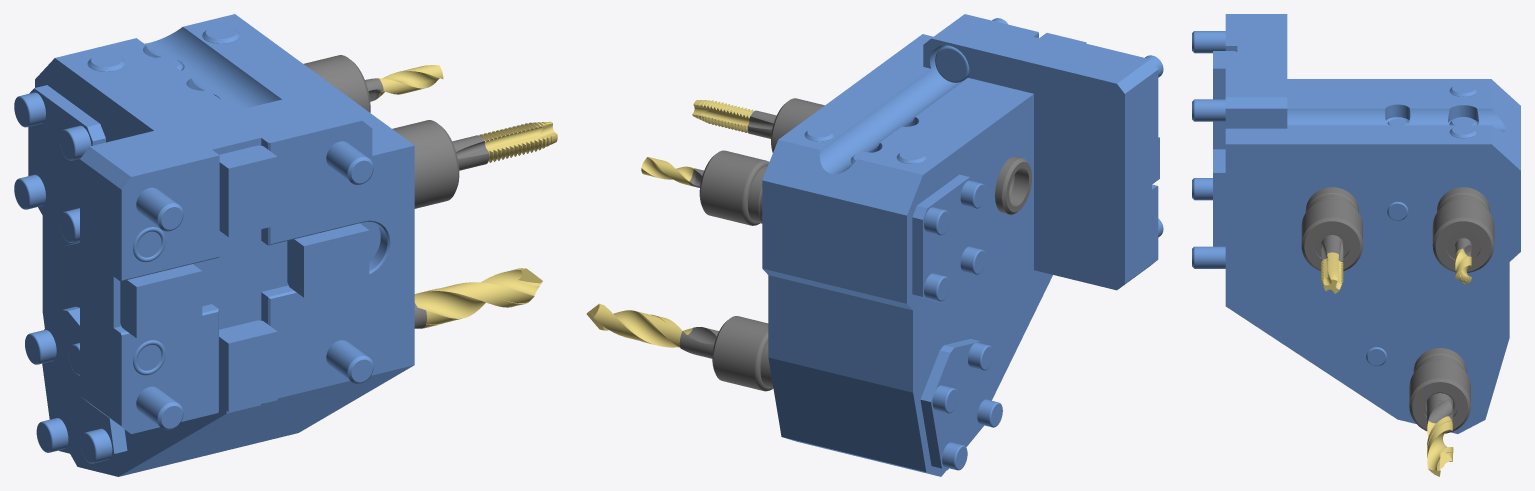
File: toolblock-3x-clean.glb
3 renders of one model, left to right at view 1: azimuth 30°, elevation 25°; view 2: azimuth 150°, elevation 25°; view 3: azimuth 270°, elevation 25°, orthographic. The views are drawn at different scales.
Visible parts, largest first — view 1: EWS_222115_DIN4003:1, 3384462-SCD 0375-150-375 WPCD - Detail-inch:1_3e3f61, 4592249-ST3 4 X2.500 ER16 MF - Basic-inch:3, 3460161-TPGN M-8X1.25-A - Detail-inch:1, 4592249-ST3 4 X2.500 ER16 MF - Basic-inch:1, 3411420-SCD0234-0751-0236 ACP3FL - Detail-inch:1_75ed30, 3460161-TPGN M-8X1.25-A - Detail-inch:1_1298e4; view 2: EWS_222115_DIN4003:1, 4592249-ST3 4 X2.500 ER16 MF - Basic-inch:1, 4592249-ST3 4 X2.500 ER16 MF - Basic-inch:2, 4592249-ST3 4 X2.500 ER16 MF - Basic-inch:3, 3384462-SCD 0375-150-375 WPCD - Detail-inch:1_3e3f61, 3460161-TPGN M-8X1.25-A - Detail-inch:1, 3384462-SCD 0375-150-375 WPCD - Detail-inch:1_082c50, 3411420-SCD0234-0751-0236 ACP3FL - Detail-inch:1_75ed30, 3460161-TPGN M-8X1.25-A - Detail-inch:1_1298e4; view 3: EWS_222115_DIN4003:1, 4592249-ST3 4 X2.500 ER16 MF - Basic-inch:1, 4592249-ST3 4 X2.500 ER16 MF - Basic-inch:3, 4592249-ST3 4 X2.500 ER16 MF - Basic-inch:2, 3384462-SCD 0375-150-375 WPCD - Detail-inch:1_3e3f61, 3460161-TPGN M-8X1.25-A - Detail-inch:1, 3384462-SCD 0375-150-375 WPCD - Detail-inch:1_082c50, 4590326-ER16 SPR .159-.199 AA - Basic-inch:1, 3411420-SCD0234-0751-0236 ACP3FL - Detail-inch:1_75ed30, 3460161-TPGN M-8X1.25-A - Detail-inch:1_1298e4, 4511359-ER16 SPR .238-.278 AA - Basic-inch:1.
Part boxes in pixels (x1,y1,x2,y2): EWS_222115_DIN4003:1: (14, 14, 414, 476); 3384462-SCD 0375-150-375 WPCD - Detail-inch:1_3e3f61: (414, 268, 542, 328); 4592249-ST3 4 X2.500 ER16 MF - Basic-inch:3: (392, 120, 459, 208); 3460161-TPGN M-8X1.25-A - Detail-inch:1: (479, 121, 557, 162); 4592249-ST3 4 X2.500 ER16 MF - Basic-inch:1: (304, 55, 370, 112); 3411420-SCD0234-0751-0236 ACP3FL - Detail-inch:1_75ed30: (378, 65, 443, 97); 3460161-TPGN M-8X1.25-A - Detail-inch:1_1298e4: (452, 135, 489, 170); EWS_222115_DIN4003:1: (762, 14, 1163, 476); 4592249-ST3 4 X2.500 ER16 MF - Basic-inch:1: (699, 150, 769, 225); 4592249-ST3 4 X2.500 ER16 MF - Basic-inch:2: (712, 316, 773, 391); 4592249-ST3 4 X2.500 ER16 MF - Basic-inch:3: (771, 98, 1031, 214); 3384462-SCD 0375-150-375 WPCD - Detail-inch:1_3e3f61: (586, 303, 692, 347); 3460161-TPGN M-8X1.25-A - Detail-inch:1: (692, 100, 753, 133); 3384462-SCD 0375-150-375 WPCD - Detail-inch:1_082c50: (679, 327, 718, 358); 3411420-SCD0234-0751-0236 ACP3FL - Detail-inch:1_75ed30: (641, 157, 694, 185); 3460161-TPGN M-8X1.25-A - Detail-inch:1_1298e4: (747, 110, 776, 138); EWS_222115_DIN4003:1: (1192, 14, 1520, 433); 4592249-ST3 4 X2.500 ER16 MF - Basic-inch:1: (1432, 187, 1494, 272); 4592249-ST3 4 X2.500 ER16 MF - Basic-inch:3: (1301, 187, 1362, 271); 4592249-ST3 4 X2.500 ER16 MF - Basic-inch:2: (1409, 348, 1470, 433); 3384462-SCD 0375-150-375 WPCD - Detail-inch:1_3e3f61: (1427, 416, 1453, 476); 3460161-TPGN M-8X1.25-A - Detail-inch:1: (1321, 252, 1343, 293); 3384462-SCD 0375-150-375 WPCD - Detail-inch:1_082c50: (1427, 393, 1453, 430); 4590326-ER16 SPR .159-.199 AA - Basic-inch:1: (1446, 230, 1480, 259); 3411420-SCD0234-0751-0236 ACP3FL - Detail-inch:1_75ed30: (1455, 248, 1471, 284); 3460161-TPGN M-8X1.25-A - Detail-inch:1_1298e4: (1321, 235, 1343, 262); 4511359-ER16 SPR .238-.278 AA - Basic-inch:1: (1315, 230, 1349, 257).
Bounding box in the file's own units: 17.28 × 12.54 × 11.75.
